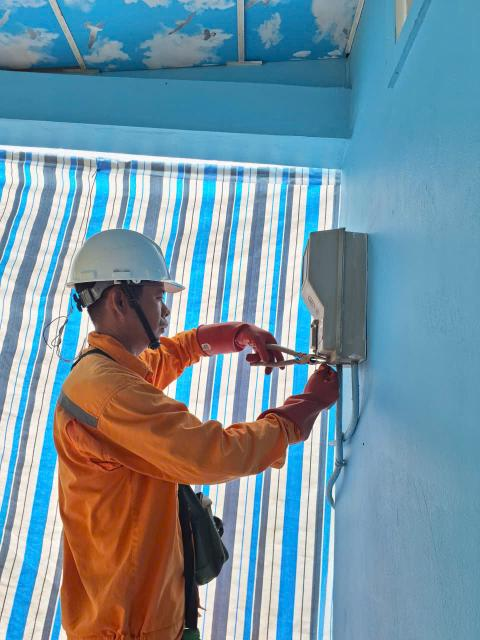gloves: (198, 301, 295, 382), (259, 358, 350, 441)
helmet: (81, 216, 193, 319)
